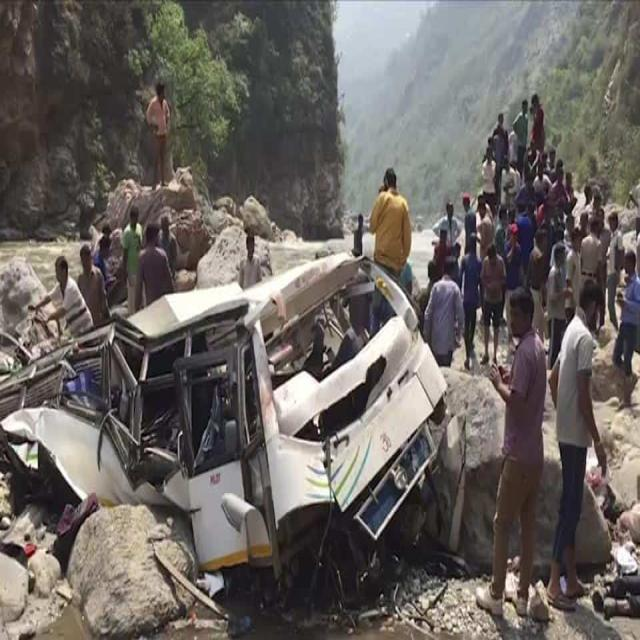accident: (0, 253, 446, 580)
